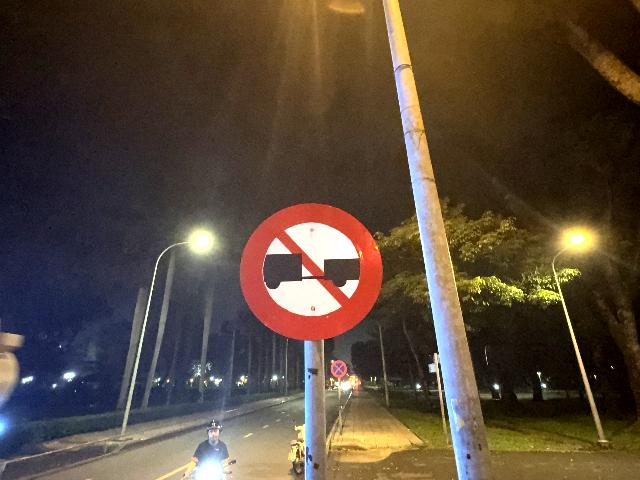cam-xe-somi-romooc: (237, 202, 384, 341)
